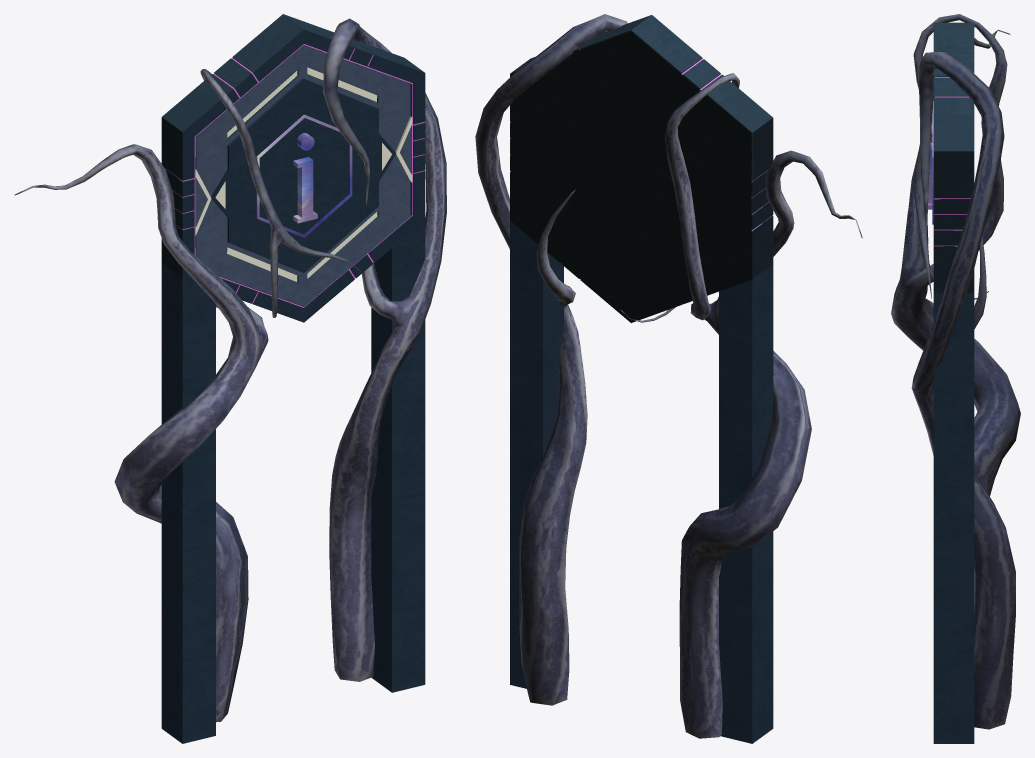
File: InfoPanel01_Art.glb
The picture shows the model from 3 angles, left to right: view 1: azimuth 30°, elevation 25°; view 2: azimuth 150°, elevation 25°; view 3: azimuth 270°, elevation 25°; orthographic projection. The views are drawn at different scales.
Visible parts, largest first — view 1: InfoPanel01_Art; view 2: InfoPanel01_Art; view 3: InfoPanel01_Art.
Boxes of the visible parts, x1,y1,x2,y2 form: InfoPanel01_Art: (14,14,446,743); InfoPanel01_Art: (475,14,862,743); InfoPanel01_Art: (891,14,1020,743).
Bounding box in the file's own units: 1.97 × 3.17 × 0.5629.
2 materials, 2 textured.
